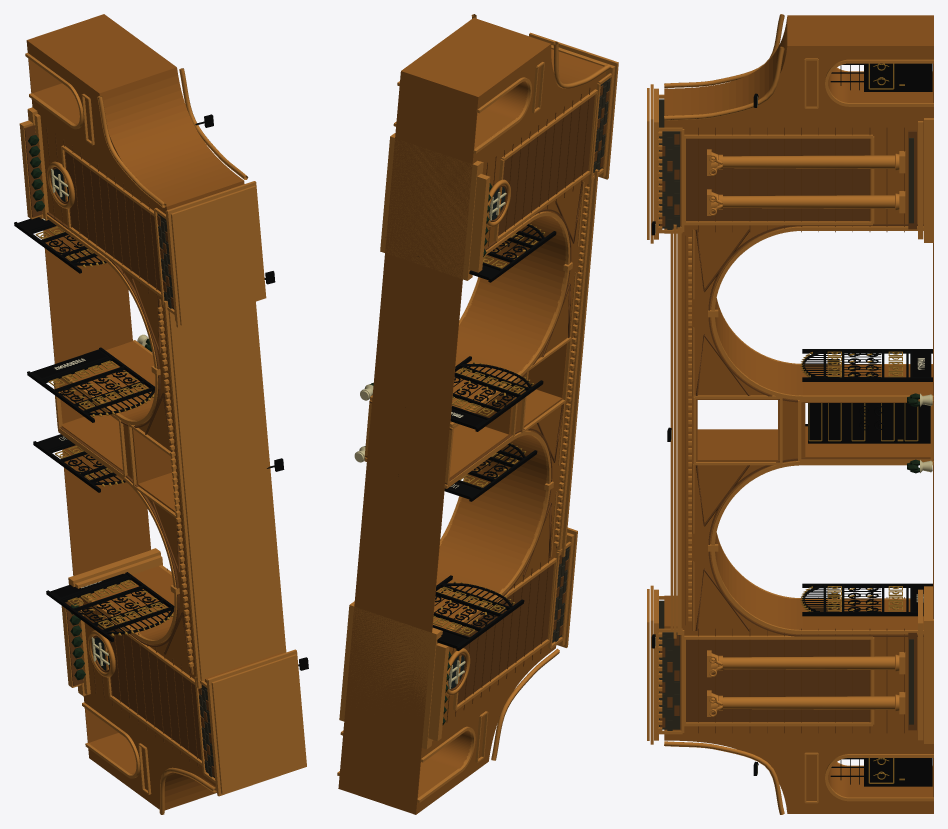
File: SM_LawGate.obj
3 renders of one model, left to right at view 1: azimuth 30°, elevation 25°; view 2: azimuth 150°, elevation 25°; view 3: azimuth 270°, elevation 25°, orthographic.
Visible parts, largest first — view 1: part_2_0, part_1_0, part_3_0, part_8_0, part_4_0, part_9_0, part_15_0, part_5_0, part_11_0, part_7_0; view 2: part_1_0, part_2_0, part_3_0, part_8_0, part_4_0, part_9_0, part_5_0, part_7_0; view 3: part_1_0, part_2_0, part_3_0, part_8_0, part_5_0, part_9_0, part_4_0.
Part boxes in pixels (bbox=[...]): part_2_0: bbox=[19, 53, 306, 814]; part_1_0: bbox=[26, 14, 283, 810]; part_3_0: bbox=[24, 125, 214, 776]; part_8_0: bbox=[14, 114, 308, 670]; part_4_0: bbox=[46, 127, 206, 772]; part_9_0: bbox=[35, 226, 173, 636]; part_15_0: bbox=[28, 135, 151, 680]; part_5_0: bbox=[157, 213, 214, 777]; part_11_0: bbox=[33, 350, 106, 378]; part_7_0: bbox=[51, 169, 148, 665]; part_1_0: bbox=[338, 18, 606, 814]; part_2_0: bbox=[337, 14, 618, 802]; part_3_0: bbox=[365, 85, 609, 704]; part_8_0: bbox=[418, 224, 556, 650]; part_4_0: bbox=[446, 81, 598, 722]; part_9_0: bbox=[433, 224, 544, 635]; part_5_0: bbox=[552, 78, 610, 642]; part_7_0: bbox=[354, 192, 506, 689]; part_1_0: bbox=[664, 15, 933, 813]; part_2_0: bbox=[647, 14, 933, 814]; part_3_0: bbox=[660, 130, 933, 730]; part_8_0: bbox=[651, 63, 932, 786]; part_5_0: bbox=[659, 99, 913, 730]; part_9_0: bbox=[800, 63, 918, 783]; part_4_0: bbox=[681, 127, 904, 733].
Bounding box in the file's own units: 615 × 2637 × 920.
Materials: 15 (4 with a texture image).
